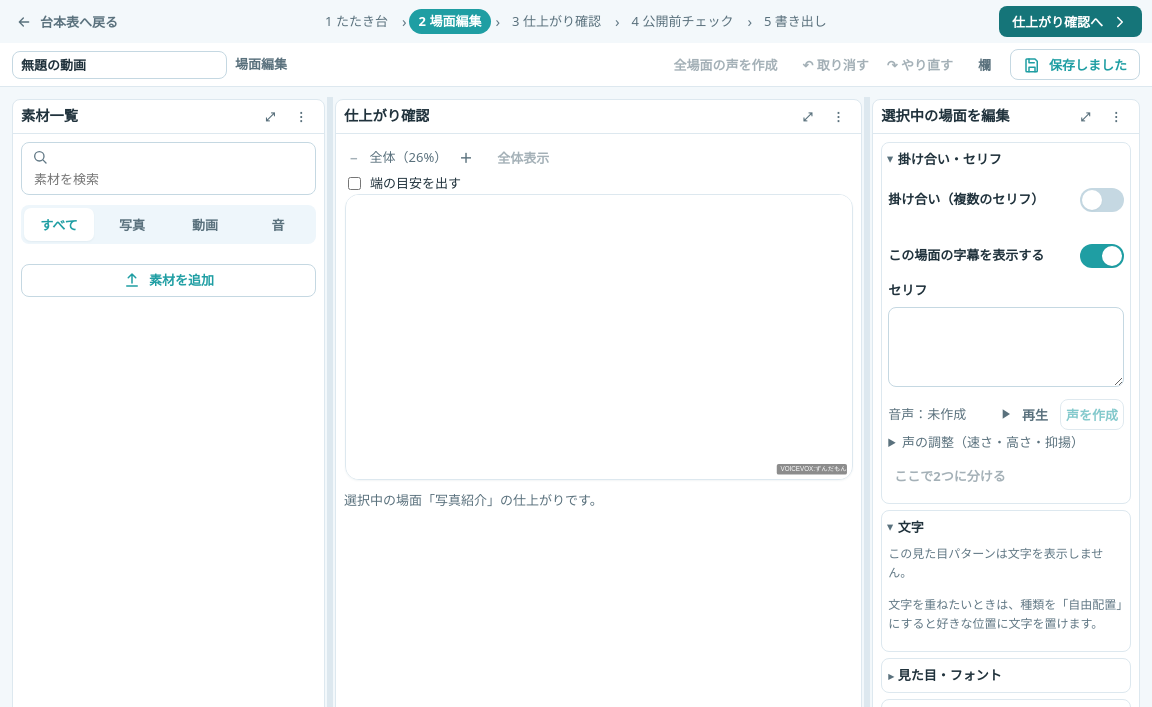
Test case: SceneEditScreen: 欄が消えても履歴のまとめが取り残されない（#847） › セリフ欄に手が入ったまま欄を閉じても、まとめは閉じる
What coordinates should you click on to do the following:
click the button named "選択中の場面を編集の欄の操作"
I would click on:
 (1116, 116)
Its box is [1101,104,1131,129].
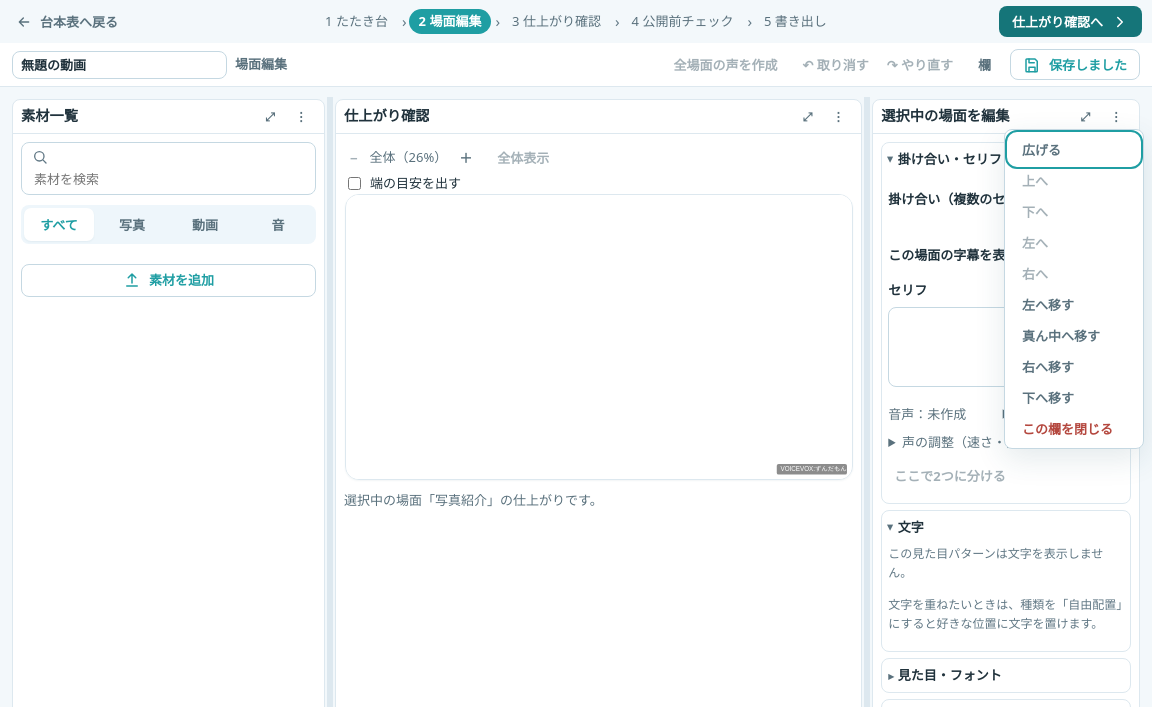
What coordinates should you click on to do the following:
click the menu item "この欄を閉じる"
I would click on:
 (1074, 428)
Its box is [1009,413,1139,444].
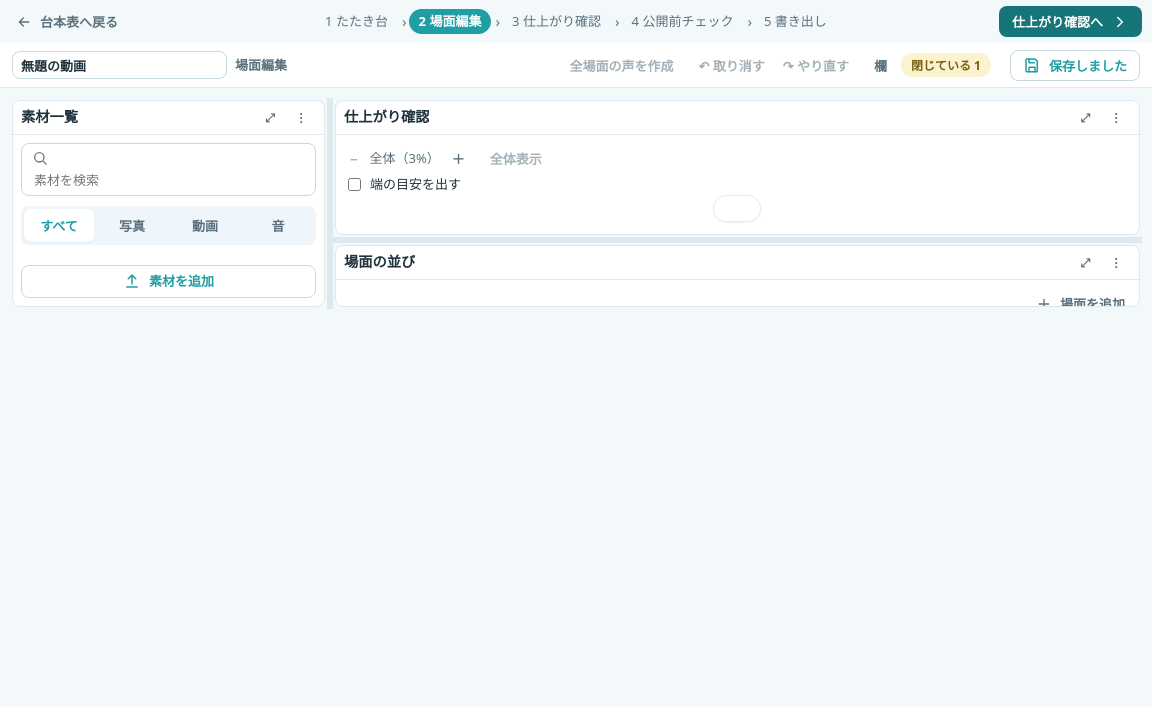
Now the heading labelled "セリフ" is gone
